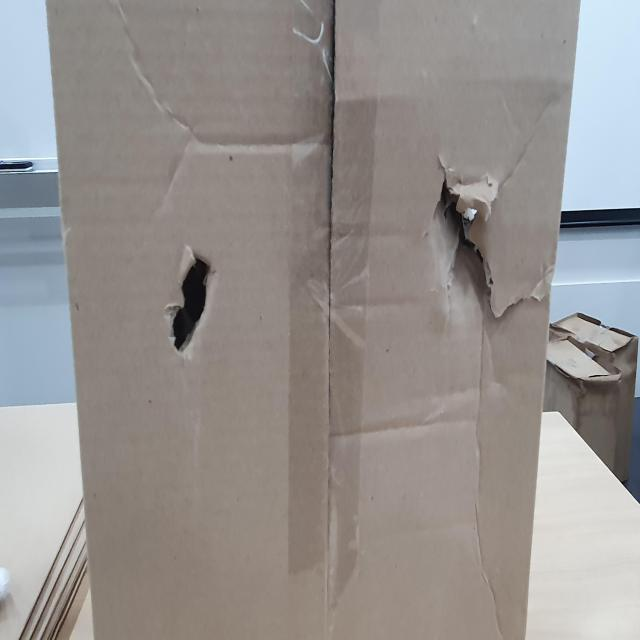damaged: (430, 142, 541, 330), (165, 242, 218, 368)
